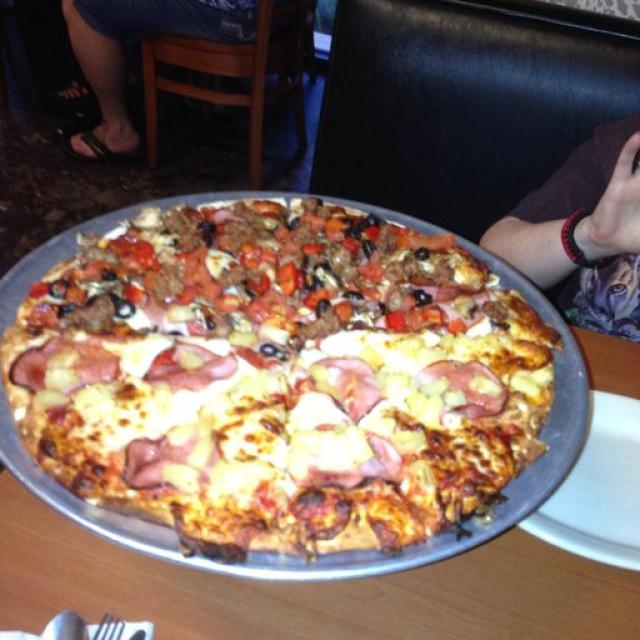Beef: (169, 208, 204, 247), (69, 302, 112, 332), (154, 266, 178, 304), (387, 258, 418, 282), (304, 315, 337, 337), (218, 264, 245, 288), (236, 202, 260, 224), (228, 225, 256, 243), (481, 302, 510, 318), (432, 264, 452, 284)
Ham: (13, 338, 120, 393), (416, 362, 508, 417), (310, 435, 404, 488), (144, 343, 238, 392), (125, 436, 214, 486), (314, 356, 382, 420)
Mushrooms: (453, 295, 478, 319)
Olives: (346, 214, 379, 237), (304, 260, 328, 288), (112, 294, 133, 317), (203, 222, 216, 247), (52, 280, 68, 300), (413, 290, 432, 304), (260, 344, 278, 358), (362, 242, 374, 256), (416, 249, 429, 261)
Onions: (316, 300, 332, 316), (205, 315, 217, 328)
Pizza: (5, 200, 556, 562)
Tomato: (178, 250, 236, 310), (114, 239, 162, 270), (306, 213, 344, 242), (401, 230, 453, 250), (425, 312, 465, 334), (358, 254, 385, 282), (280, 266, 303, 294), (246, 247, 278, 267), (386, 312, 409, 333), (68, 285, 88, 306), (123, 284, 142, 304), (249, 278, 271, 294), (359, 288, 384, 300), (335, 303, 350, 322), (32, 282, 48, 298), (302, 242, 323, 253), (343, 237, 357, 249), (366, 226, 380, 238)
